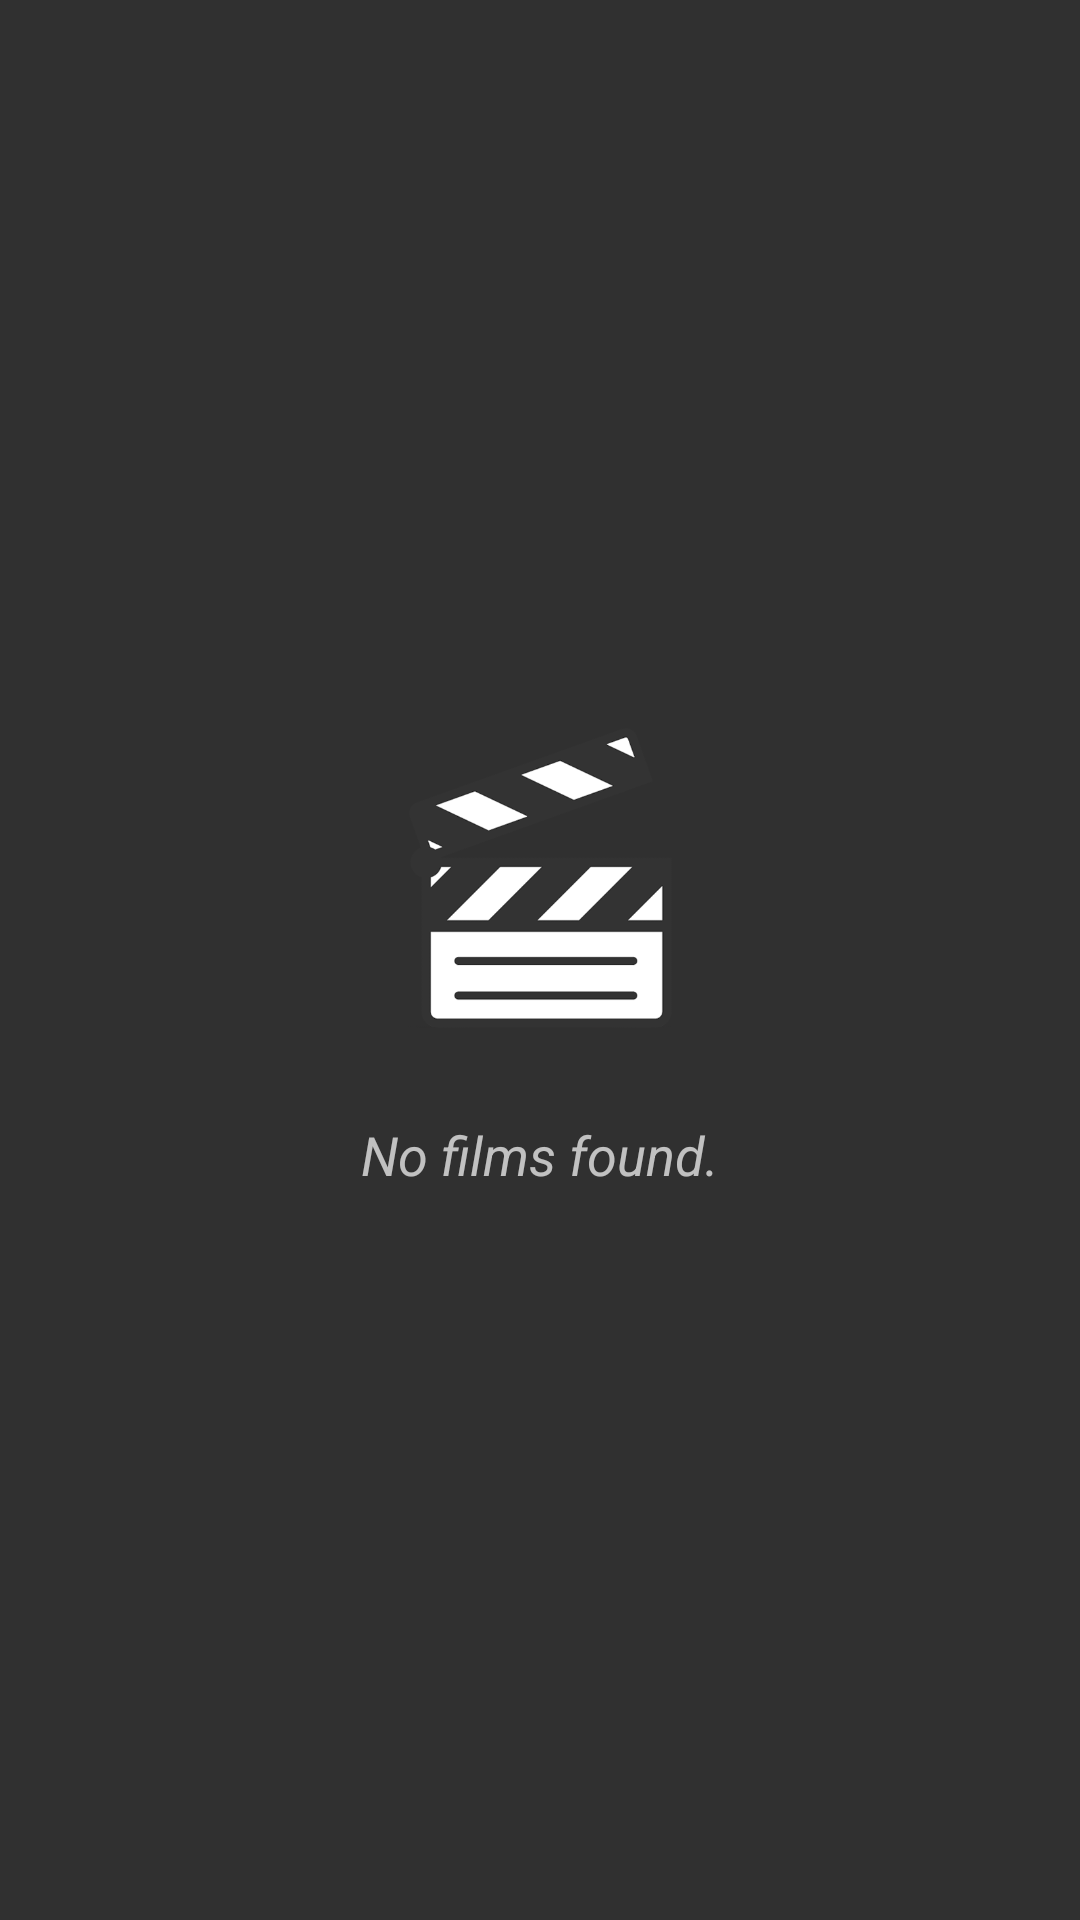

Named icons in this screenshot (1080px x 1920px) and their centers, [x,y]:
clap: [545,878]
